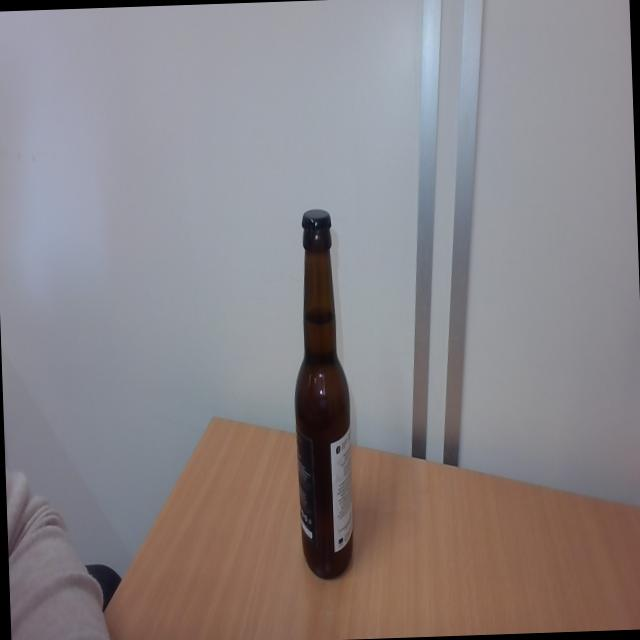Bottle: (288, 233, 357, 579)
Cap: (299, 205, 332, 237)
Label: (296, 434, 356, 553)
